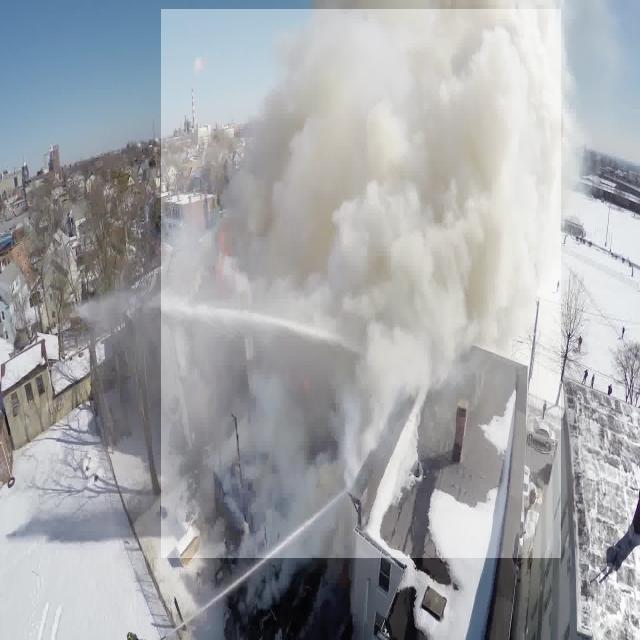Smoke: (161, 9, 561, 558)
